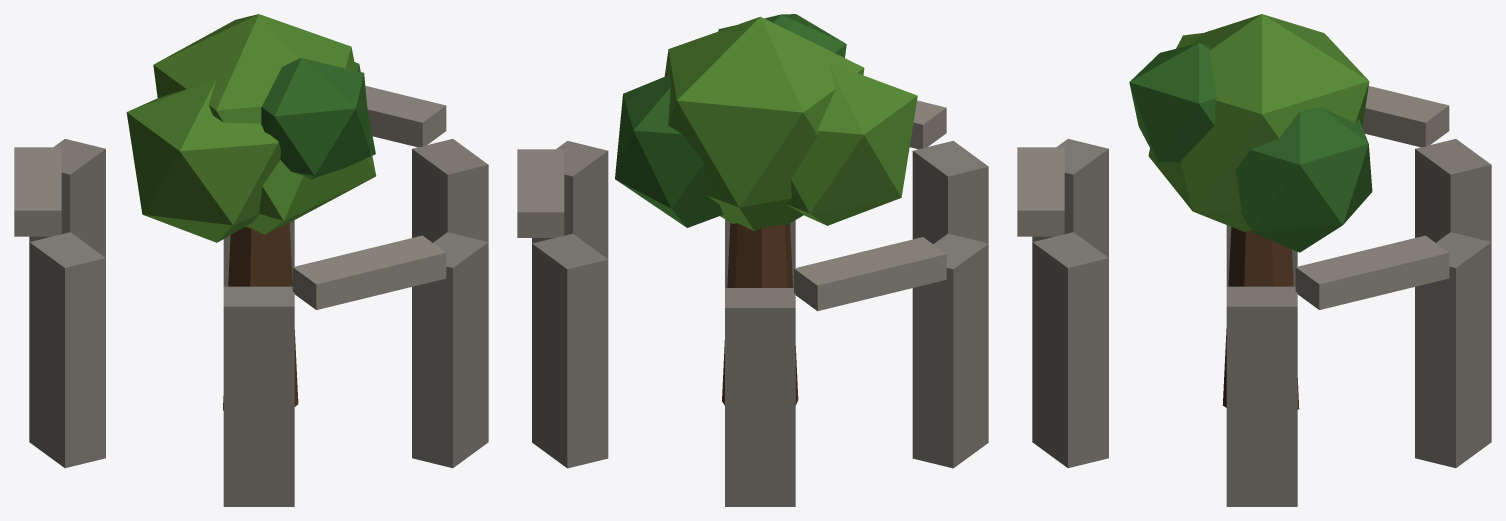
The model's file is treekin_landmark_broken.glb.
The picture shows the model from 3 angles, left to right: view 1: azimuth 30°, elevation 25°; view 2: azimuth 150°, elevation 25°; view 3: azimuth 270°, elevation 25°; orthographic projection.
Visible parts, largest first — view 1: treekin_landmark_piece3, treekin_landmark_piece4, treekin_landmark_piece13, treekin_landmark_piece0, treekin_landmark_piece8, treekin_landmark_piece5, treekin_landmark_piece11, treekin_landmark_piece6, treekin_landmark_piece9, treekin_landmark_piece10, treekin_landmark_piece1, treekin_landmark_piece12 (+1 smaller); view 2: treekin_landmark_piece3, treekin_landmark_piece8, treekin_landmark_piece1, treekin_landmark_piece10, treekin_landmark_piece11, treekin_landmark_piece13, treekin_landmark_piece9, treekin_landmark_piece5, treekin_landmark_piece12, treekin_landmark_piece7, treekin_landmark_piece4; view 3: treekin_landmark_piece12, treekin_landmark_piece1, treekin_landmark_piece7, treekin_landmark_piece10, treekin_landmark_piece0, treekin_landmark_piece5, treekin_landmark_piece11, treekin_landmark_piece4, treekin_landmark_piece3, treekin_landmark_piece13, treekin_landmark_piece8, treekin_landmark_piece9 (+2 smaller).
Boxes of the visible parts, x1,y1,x2,y2 form: treekin_landmark_piece3: (14,14,324,349); treekin_landmark_piece4: (54,43,369,376); treekin_landmark_piece13: (223,196,357,506); treekin_landmark_piece0: (292,117,488,418); treekin_landmark_piece8: (29,181,105,468); treekin_landmark_piece5: (296,145,488,454); treekin_landmark_piece11: (14,139,105,319); treekin_landmark_piece6: (304,205,474,468); treekin_landmark_piece9: (223,213,306,410); treekin_landmark_piece10: (354,62,479,179); treekin_landmark_piece1: (105,86,446,286); treekin_landmark_piece12: (223,19,376,233); treekin_landmark_piece3: (694,16,988,339); treekin_landmark_piece8: (725,320,988,506); treekin_landmark_piece1: (517,165,734,506); treekin_landmark_piece10: (517,89,731,224); treekin_landmark_piece11: (725,149,966,357); treekin_landmark_piece13: (909,100,988,244); treekin_landmark_piece9: (718,138,803,405); treekin_landmark_piece5: (556,141,730,405); treekin_landmark_piece12: (634,29,718,135); treekin_landmark_piece7: (532,204,608,468); treekin_landmark_piece4: (719,14,988,350); treekin_landmark_piece12: (1159,67,1369,222); treekin_landmark_piece1: (1258,232,1491,430); treekin_landmark_piece7: (1226,296,1491,506); treekin_landmark_piece10: (1220,88,1430,302); treekin_landmark_piece0: (1017,91,1181,392); treekin_landmark_piece5: (1051,286,1299,478); treekin_landmark_piece11: (1362,86,1491,191); treekin_landmark_piece4: (1129,43,1251,177); treekin_landmark_piece3: (1179,14,1360,83); treekin_landmark_piece13: (1017,139,1154,257); treekin_landmark_piece8: (1226,183,1491,286); treekin_landmark_piece9: (1222,225,1293,407).
Bounding box in the file's own units: 3.16 × 2.72 × 3.
